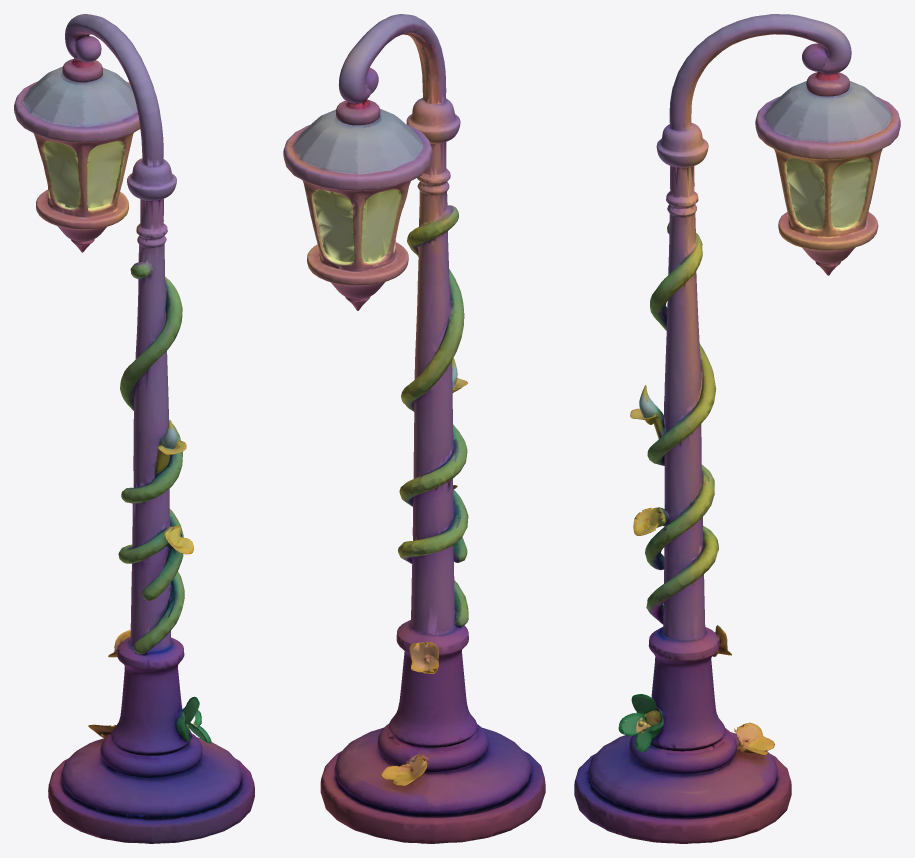
Rendered from prop_lamp.glb.
3 views of the same model, side by side, from view 1: azimuth 30°, elevation 25°; view 2: azimuth 150°, elevation 25°; view 3: azimuth 270°, elevation 25° (orthographic). The views are drawn at different scales.
Parts seen in each view (by area): view 1: tripo_node_f28164ef-912b-4f11-a3e7-5541d464a186; view 2: tripo_node_f28164ef-912b-4f11-a3e7-5541d464a186; view 3: tripo_node_f28164ef-912b-4f11-a3e7-5541d464a186.
Part boxes in pixels (x1=…): tripo_node_f28164ef-912b-4f11-a3e7-5541d464a186: x1=14, y1=14, x2=254, y2=843; tripo_node_f28164ef-912b-4f11-a3e7-5541d464a186: x1=283, y1=14, x2=545, y2=843; tripo_node_f28164ef-912b-4f11-a3e7-5541d464a186: x1=574, y1=14, x2=900, y2=843.
Size of the model in its own units: 0.2511 by 0.9999 by 0.3773.
1 material, 1 textured.
